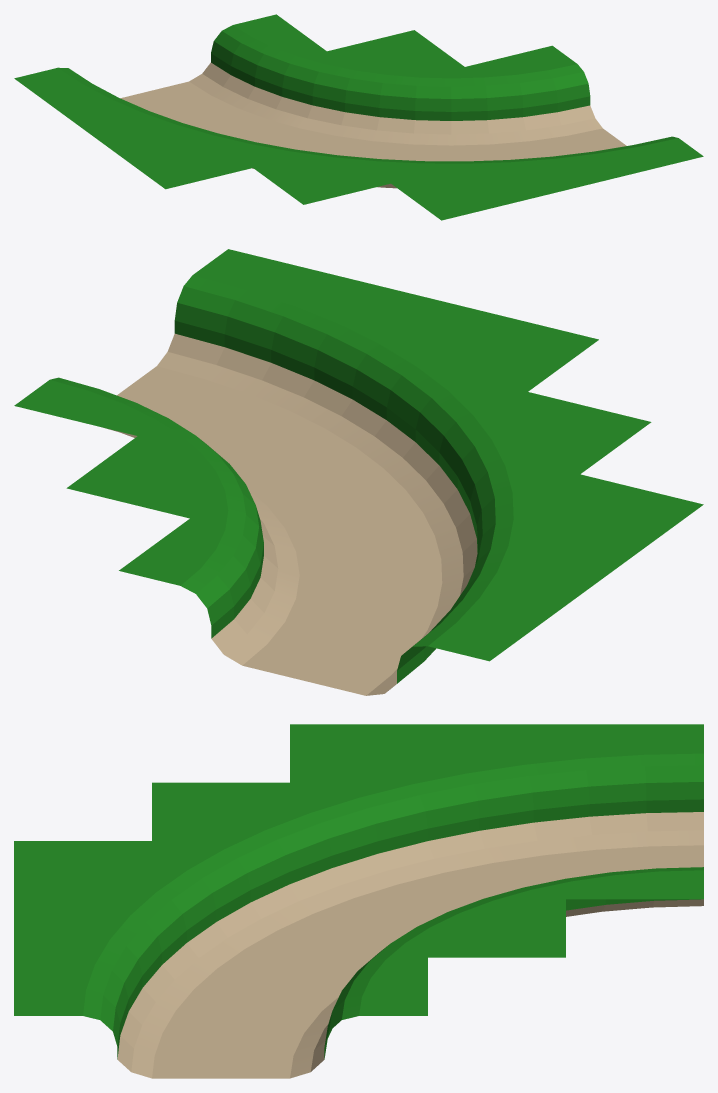
File: Track_Standard_Curve_Single_5x5.obj
3 renders of one model, top to bottom at view 1: azimuth 30°, elevation 25°; view 2: azimuth 150°, elevation 25°; view 3: azimuth 270°, elevation 25°, orthographic. The views are drawn at different scales.
Visible parts, largest first — view 1: Grass, Dirt; view 2: Grass, Dirt; view 3: Grass, Dirt.
Boxes of the visible parts, <box> form: Grass: <box>14,14,703,220</box>; Dirt: <box>120,62,626,188</box>; Grass: <box>14,249,703,683</box>; Dirt: <box>103,333,477,695</box>; Grass: <box>14,724,703,1059</box>; Dirt: <box>117,812,703,1078</box>.
Size of the model in its own units: 5 by 0.5 by 5.
